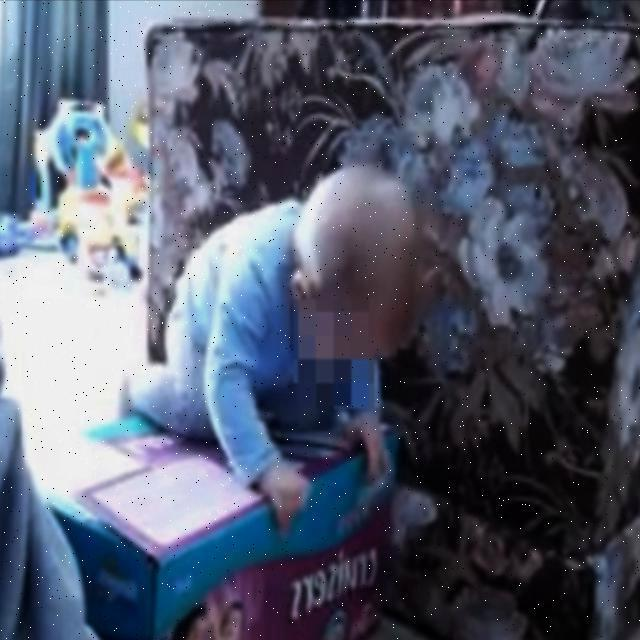child: (114, 167, 429, 527)
